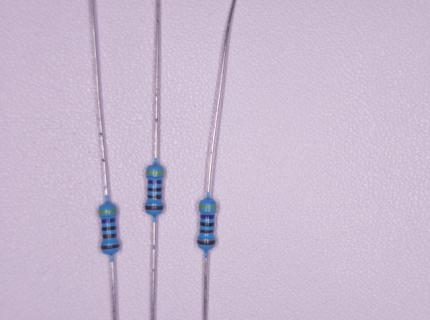Black band: (102, 226, 116, 231), (200, 222, 214, 227), (147, 188, 162, 191)
Brown band: (101, 244, 119, 249), (145, 205, 163, 210), (198, 240, 215, 245), (103, 233, 116, 238), (147, 195, 161, 199), (200, 229, 214, 233)
Violet band: (101, 218, 116, 223), (200, 215, 215, 219), (148, 180, 162, 184)
Yellow band: (146, 170, 164, 175), (99, 209, 117, 213), (199, 205, 216, 209)
